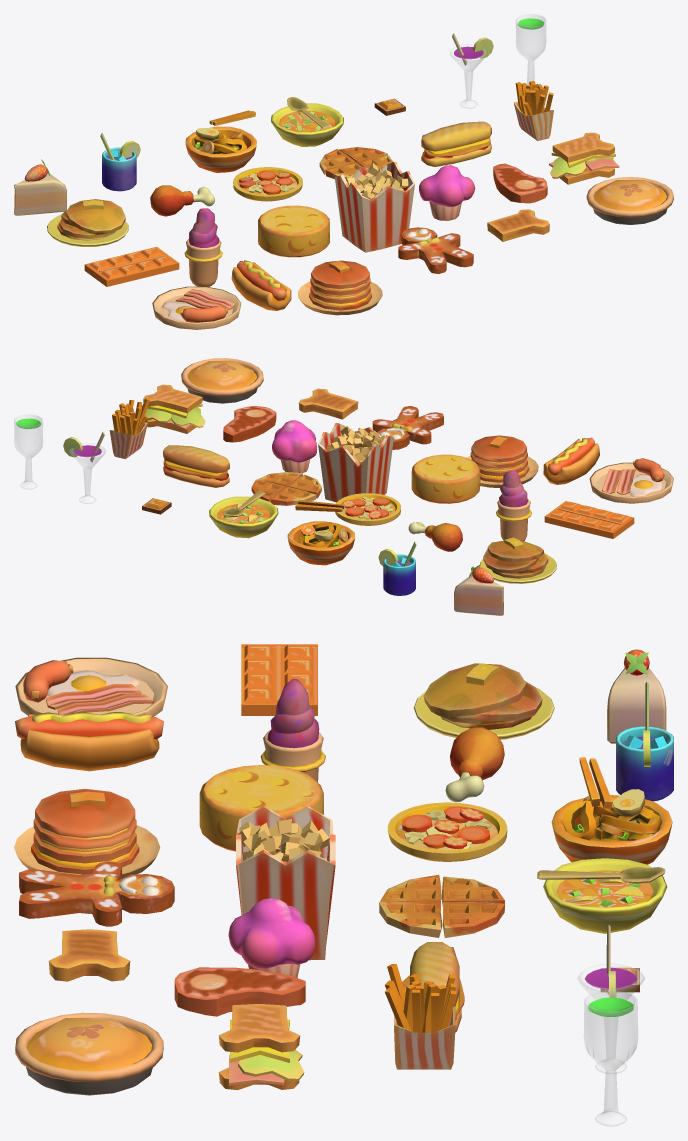
File: free_low_poly_food_asset_pack.glb
The picture shows the model from 3 angles, top to bottom: view 1: azimuth 30°, elevation 25°; view 2: azimuth 150°, elevation 25°; view 3: azimuth 270°, elevation 25°; orthographic projection. The views are drawn at different scales.
Visible parts, largest first — view 1: PopCorn, Pancake_Big, Pie, Cheese, BreakFastPlate, Pancake_Little, Noodle, Sandwich_Toast, Sandwich, CoockieMan, Chocolate, Soap (+13 smaller); view 2: PopCorn, Pie, Cheese, BreakFastPlate, Pancake_Little, Pancake_Big, Noodle, Sandwich, Sandwich_Toast, Chocolate, Soap, Cake (+14 smaller); view 3: PopCorn, Pie, Pancake_Big, Pancake_Little, BreakFastPlate, HotDog, CoockieMan, Noodle, Cheese, Soap, Waffle, Sandwich_Toast (+15 smaller).
Boxes of the visible parts, bbox=[...] form: PopCorn: bbox=[334, 162, 414, 252]; Pancake_Big: bbox=[297, 260, 382, 315]; Pie: bbox=[586, 177, 673, 224]; Cheese: bbox=[258, 205, 329, 257]; BreakFastPlate: bbox=[152, 286, 241, 329]; Pancake_Little: bbox=[47, 199, 128, 246]; Noodle: bbox=[185, 126, 256, 172]; Sandwich_Toast: bbox=[549, 132, 619, 184]; Sandwich: bbox=[421, 121, 491, 166]; CoockieMan: bbox=[398, 227, 473, 273]; Chocolate: bbox=[84, 247, 179, 286]; Soap: bbox=[271, 103, 343, 146]; PopCorn: bbox=[318, 423, 393, 502]; Pie: bbox=[181, 358, 263, 403]; Cheese: bbox=[411, 454, 480, 503]; BreakFastPlate: bbox=[589, 458, 673, 503]; Pancake_Little: bbox=[479, 537, 556, 583]; Pancake_Big: bbox=[466, 435, 538, 487]; Noodle: bbox=[287, 521, 355, 565]; Sandwich: bbox=[163, 445, 229, 487]; Sandwich_Toast: bbox=[141, 384, 205, 433]; Chocolate: bbox=[544, 501, 634, 538]; Soap: bbox=[209, 496, 278, 538]; Cake: bbox=[454, 564, 503, 615]; PopCorn: bbox=[236, 806, 335, 960]; Pie: bbox=[15, 1012, 163, 1095]; Pancake_Big: bbox=[14, 788, 160, 878]; Pancake_Little: bbox=[413, 663, 554, 739]; BreakFastPlate: bbox=[15, 657, 167, 716]; HotDog: bbox=[15, 712, 163, 771]; CoockieMan: bbox=[19, 861, 174, 926]; Noodle: bbox=[551, 789, 672, 864]; Cheese: bbox=[199, 765, 323, 851]; Soap: bbox=[543, 858, 667, 933]; Waffle: bbox=[379, 874, 504, 937]; Sandwich_Toast: bbox=[218, 1004, 304, 1090].
Size of the model in its own units: 17.41 by 3.05 by 10.62.
3 materials, 2 textured.
